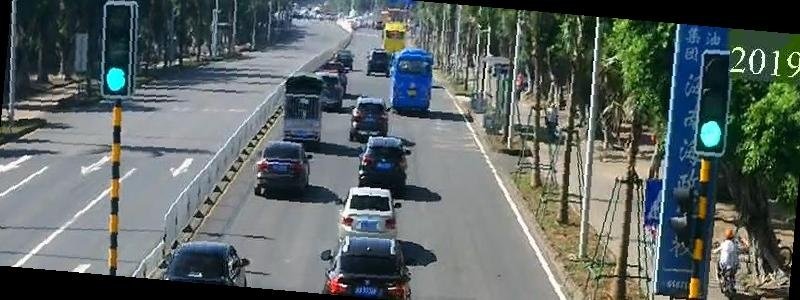green: (700, 116, 726, 154), (104, 61, 133, 94)
